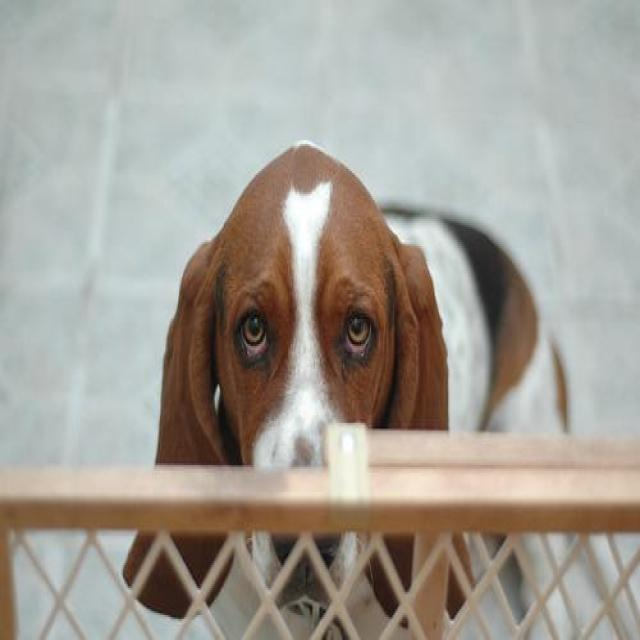basset: (123, 140, 577, 638)
